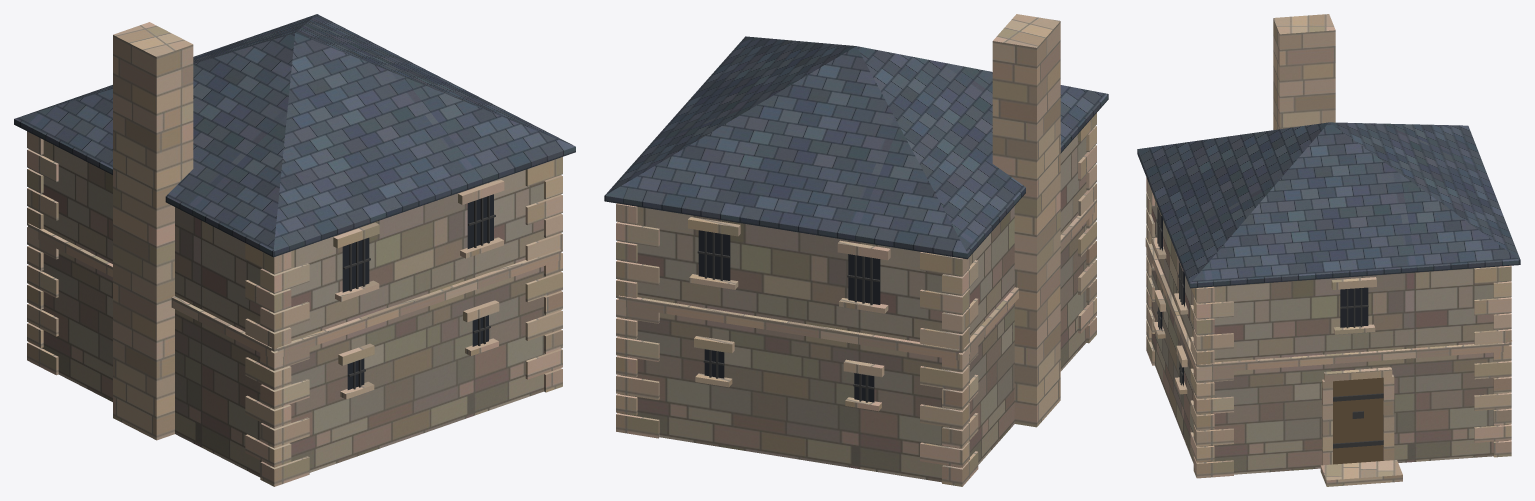
3 renders of one model, left to right at view 1: azimuth 30°, elevation 25°; view 2: azimuth 150°, elevation 25°; view 3: azimuth 270°, elevation 25°, orthographic. The views are drawn at different scales.
Visible parts, largest first — view 1: b001092_wall, b001092_slate, b001092_dressed, b001092_glass, b001092_iron; view 2: b001092_wall, b001092_slate, b001092_dressed, b001092_glass, b001092_iron; view 3: b001092_slate, b001092_wall, b001092_dressed, b001092_oak, b001092_iron, b001092_glass.
Boxes of the visible parts, left/top/right/bottom form: b001092_wall: left=42, top=140, right=545, bottom=477; b001092_slate: left=14, top=14, right=575, bottom=257; b001092_dressed: left=27, top=22, right=562, bottom=486; b001092_glass: left=342, top=194, right=493, bottom=389; b001092_iron: left=343, top=195, right=495, bottom=389; b001092_wall: left=620, top=134, right=1087, bottom=482; b001092_slate: left=604, top=36, right=1108, bottom=259; b001092_dressed: left=616, top=14, right=1096, bottom=486; b001092_glass: left=698, top=230, right=880, bottom=402; b001092_iron: left=697, top=231, right=879, bottom=402; b001092_slate: left=1137, top=122, right=1520, bottom=288; b001092_wall: left=1151, top=201, right=1508, bottom=474; b001092_dressed: left=1145, top=14, right=1511, bottom=486; b001092_oak: left=1333, top=377, right=1383, bottom=464; b001092_iron: left=1156, top=207, right=1383, bottom=448; b001092_glass: left=1160, top=216, right=1368, bottom=386.
Bounding box in the file's own units: 7.47 × 6.75 × 7.43.
6 materials, 3 textured.
